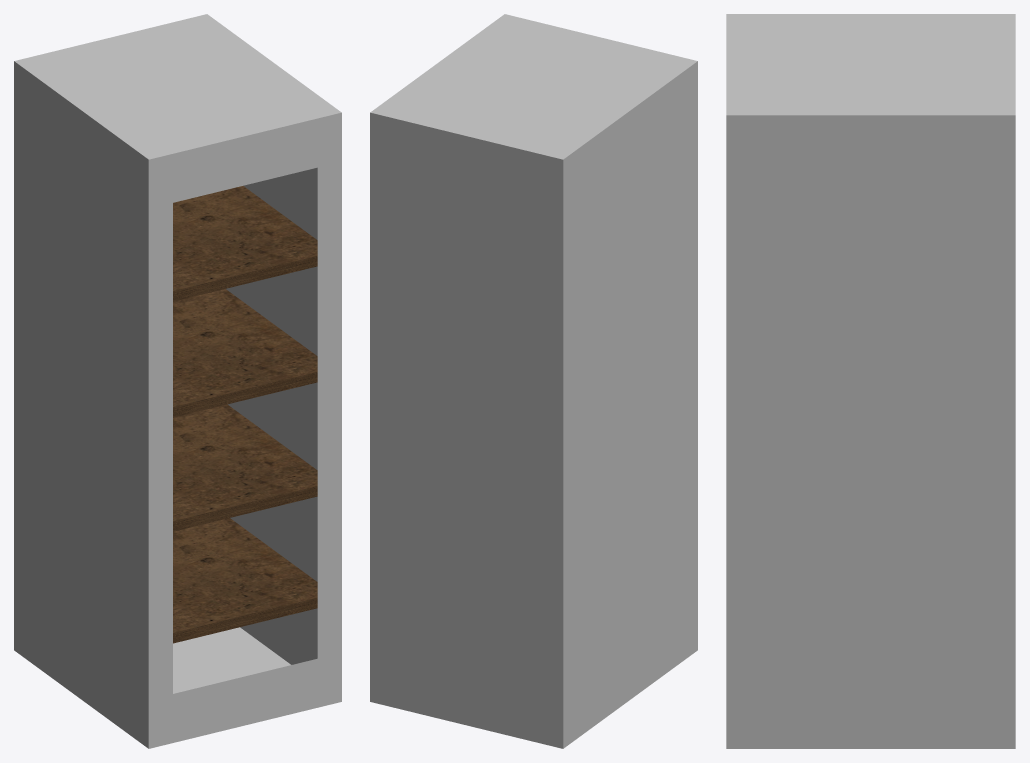
The model's file is Large Cabinet.fbx.
3 renders of one model, left to right at view 1: azimuth 30°, elevation 25°; view 2: azimuth 150°, elevation 25°; view 3: azimuth 270°, elevation 25°, orthographic. The views are drawn at different scales.
Parts seen in each view (by area): view 1: pCube1, pCube2, pCube5, pCube4, pCube3, pCube6; view 2: pCube1, pCube2; view 3: pCube1, pCube2.
Boxes of the visible parts, <box> form: pCube1: <box>14,14,341,748</box>; pCube2: <box>14,14,341,748</box>; pCube5: <box>173,289,317,417</box>; pCube4: <box>173,404,317,531</box>; pCube3: <box>173,518,317,643</box>; pCube6: <box>173,186,317,301</box>; pCube1: <box>370,14,697,748</box>; pCube2: <box>370,15,697,747</box>; pCube1: <box>726,14,1015,748</box>; pCube2: <box>726,14,1015,748</box>.
Bounding box in the file's own units: 4.9 × 14.3 × 5.93.
